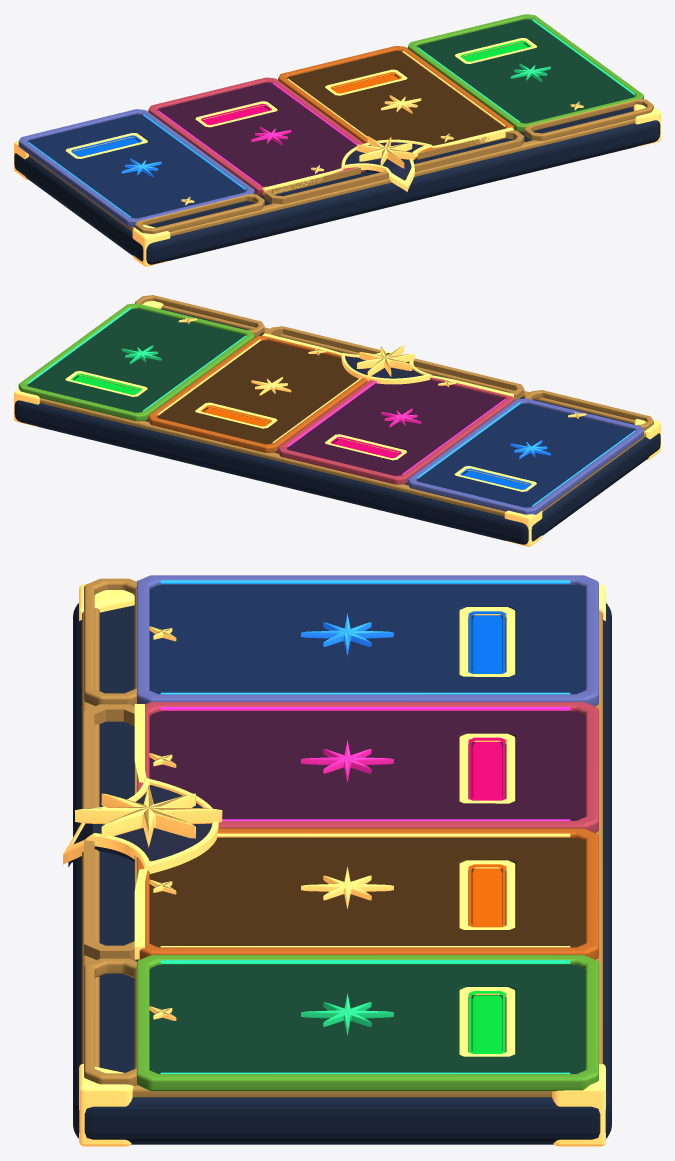
The model's file is platform.glb.
3 views of the same model, one above another, from view 1: azimuth 30°, elevation 25°; view 2: azimuth 150°, elevation 25°; view 3: azimuth 270°, elevation 25° (orthographic). The views are drawn at different scales.
Parts seen in each view (by area): view 1: Platform | continuous sculpted chassis, Inset lane 1 | mineral glass and recessed hit well, Inset lane 4 | mineral glass and recessed hit well, Inset lane 2 | mineral glass and recessed hit well, Inset lane 3 | mineral glass and recessed hit well, Lane 1 | substantial continuous profiled border, Lane 4 | substantial continuous profiled border, Perimeter | broad continuous profiled gold frame, Lane 2 | substantial continuous profiled border, Lane 3 | substantial continuous profiled border, Lane 4 | sculpted front apron surround, Lane 1 | sculpted front apron surround (+17 smaller); view 2: Platform | continuous sculpted chassis, Inset lane 4 | mineral glass and recessed hit well, Inset lane 1 | mineral glass and recessed hit well, Inset lane 3 | mineral glass and recessed hit well, Inset lane 2 | mineral glass and recessed hit well, Perimeter | broad continuous profiled gold frame, Lane 1 | substantial continuous profiled border, Lane 4 | substantial continuous profiled border, Lane 2 | substantial continuous profiled border, Lane 3 | substantial continuous profiled border, Lane 1 | sculpted front apron surround, Lane 4 | sculpted front apron surround (+14 smaller); view 3: Platform | continuous sculpted chassis, Inset lane 4 | mineral glass and recessed hit well, Inset lane 1 | mineral glass and recessed hit well, Inset lane 3 | mineral glass and recessed hit well, Inset lane 2 | mineral glass and recessed hit well, Lane 4 | substantial continuous profiled border, Lane 1 | substantial continuous profiled border, Lane 3 | substantial continuous profiled border, Perimeter | broad continuous profiled gold frame, Lane 2 | substantial continuous profiled border, Crest | raised elongated faceted compass star, Crest | narrow arched concave shield gold edging (+29 smaller).
Part boxes in pixels (x1=…): Platform | continuous sculpted chassis: x1=14, y1=107, x2=660, y2=264; Inset lane 1 | mineral glass and recessed hit well: x1=27, y1=114, x2=245, y2=218; Inset lane 4 | mineral glass and recessed hit well: x1=416, y1=19, x2=634, y2=123; Inset lane 2 | mineral glass and recessed hit well: x1=157, y1=82, x2=356, y2=186; Inset lane 3 | mineral glass and recessed hit well: x1=287, y1=51, x2=505, y2=145; Lane 1 | substantial continuous profiled border: x1=18, y1=109, x2=254, y2=226; Lane 4 | substantial continuous profiled border: x1=407, y1=14, x2=643, y2=132; Perimeter | broad continuous profiled gold frame: x1=29, y1=48, x2=635, y2=236; Lane 2 | substantial continuous profiled border: x1=148, y1=77, x2=365, y2=195; Lane 3 | substantial continuous profiled border: x1=278, y1=46, x2=514, y2=159; Lane 4 | sculpted front apron surround: x1=524, y1=99, x2=653, y2=140; Lane 1 | sculpted front apron surround: x1=135, y1=194, x2=264, y2=233; Platform | continuous sculpted chassis: x1=14, y1=308, x2=660, y2=544; Inset lane 4 | mineral glass and recessed hit well: x1=27, y1=308, x2=244, y2=412; Inset lane 1 | mineral glass and recessed hit well: x1=416, y1=403, x2=634, y2=507; Inset lane 3 | mineral glass and recessed hit well: x1=157, y1=340, x2=358, y2=444; Inset lane 2 | mineral glass and recessed hit well: x1=287, y1=380, x2=504, y2=475; Perimeter | broad continuous profiled gold frame: x1=39, y1=305, x2=645, y2=516; Lane 1 | substantial continuous profiled border: x1=407, y1=398, x2=643, y2=514; Lane 4 | substantial continuous profiled border: x1=18, y1=303, x2=254, y2=421; Lane 2 | substantial continuous profiled border: x1=278, y1=377, x2=514, y2=484; Lane 3 | substantial continuous profiled border: x1=148, y1=335, x2=367, y2=452; Lane 1 | sculpted front apron surround: x1=524, y1=390, x2=653, y2=431; Lane 4 | sculpted front apron surround: x1=135, y1=295, x2=264, y2=337; Platform | continuous sculpted chassis: x1=73, y1=603, x2=611, y2=1144; Inset lane 4 | mineral glass and recessed hit well: x1=149, y1=964, x2=585, y2=1073; Inset lane 1 | mineral glass and recessed hit well: x1=149, y1=584, x2=585, y2=694; Inset lane 3 | mineral glass and recessed hit well: x1=149, y1=837, x2=585, y2=947; Inset lane 2 | mineral glass and recessed hit well: x1=149, y1=711, x2=585, y2=820; Lane 4 | substantial continuous profiled border: x1=136, y1=955, x2=598, y2=1091; Lane 1 | substantial continuous profiled border: x1=136, y1=575, x2=598, y2=706; Lane 3 | substantial continuous profiled border: x1=137, y1=828, x2=598, y2=959; Perimeter | broad continuous profiled gold frame: x1=82, y1=608, x2=602, y2=1097; Lane 2 | substantial continuous profiled border: x1=137, y1=702, x2=598, y2=832; Crest | raised elongated faceted compass star: x1=75, y1=784, x2=222, y2=847; Crest | narrow arched concave shield gold edging: x1=63, y1=778, x2=218, y2=873.
Size of the model in its own units: 12 by 1.14 by 5.5.
